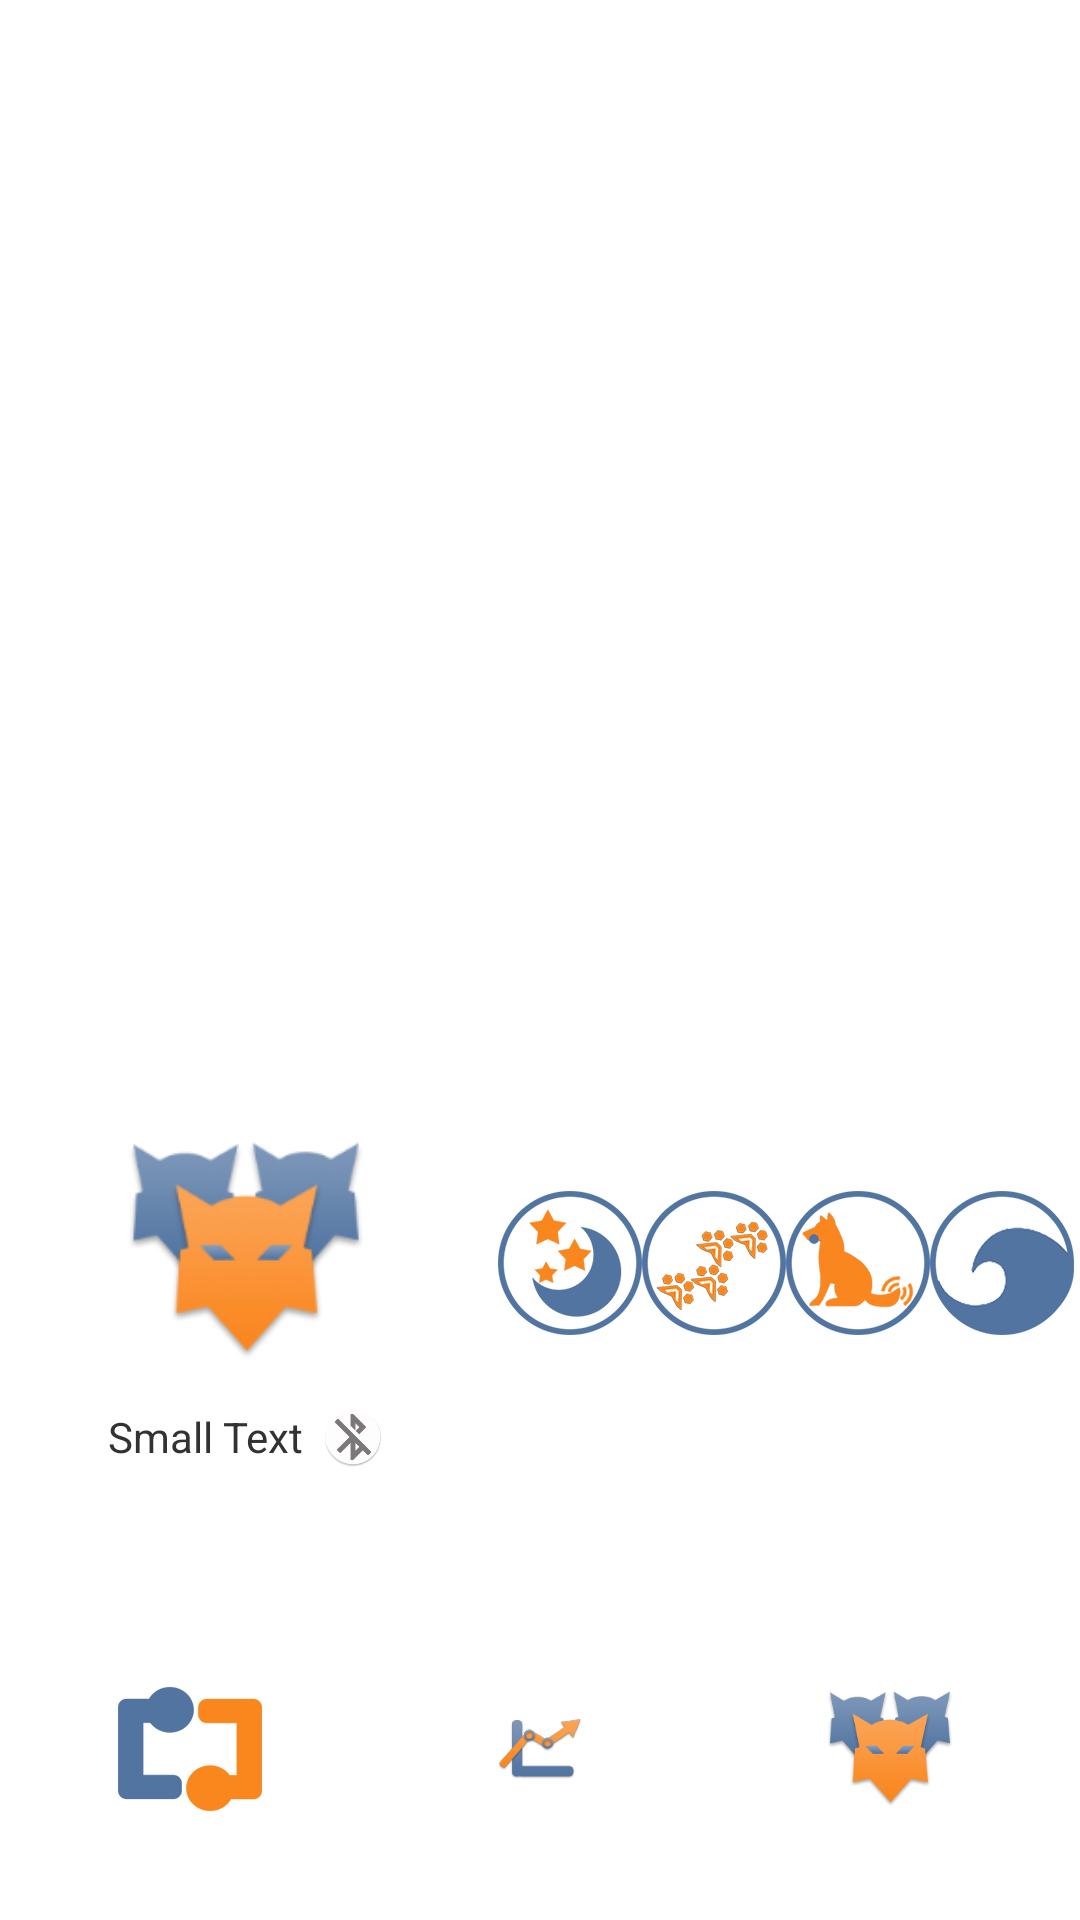

Locate icon controls on the screen. Image size 1080w x 1920h, boxes as (x1, y1, x2, y2).
activity: (499, 1719, 581, 1778)
pack: (132, 1143, 360, 1354), (829, 1691, 951, 1804)
sync: (118, 1687, 262, 1811)
